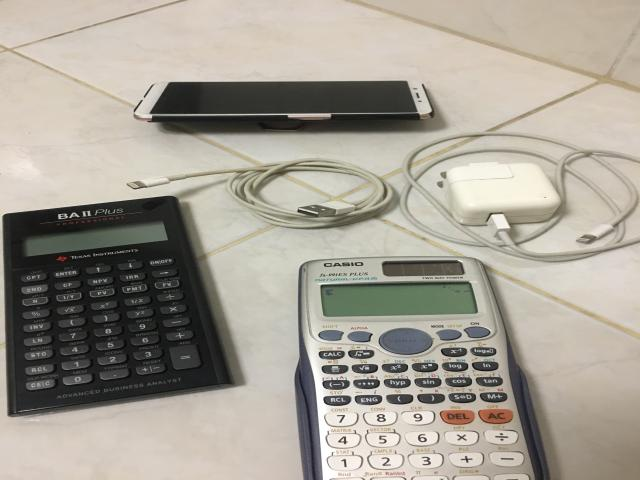Mobile phone: (133, 81, 432, 124)
wire: (400, 131, 640, 262), (128, 158, 393, 228)
